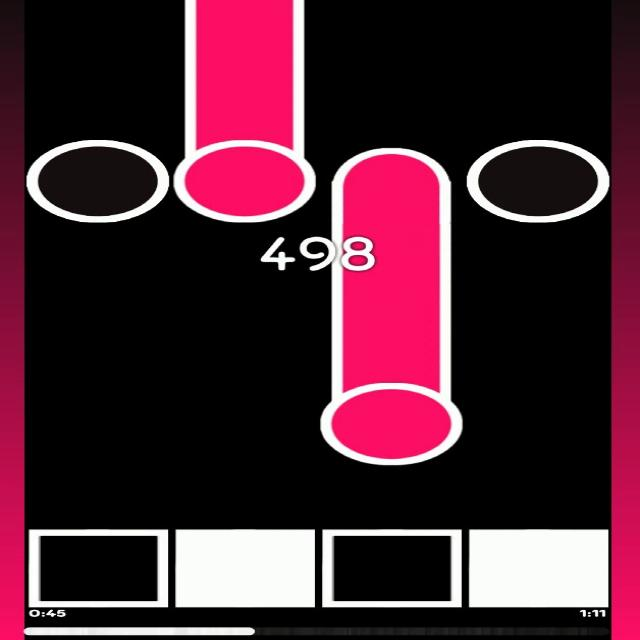end_hold: (326, 137, 459, 196)
note: (23, 138, 170, 222), (466, 138, 610, 222)
start_hold: (319, 366, 464, 467), (175, 125, 317, 223)
